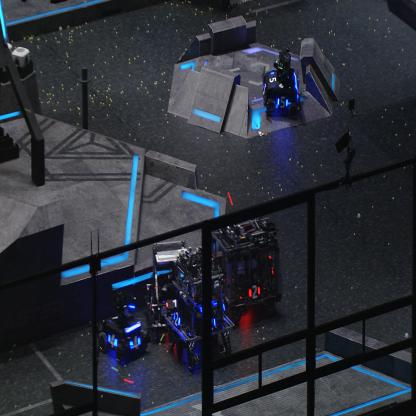car: (164, 242, 236, 372), (208, 211, 282, 320), (144, 240, 192, 336), (98, 288, 149, 366), (261, 47, 300, 120)
